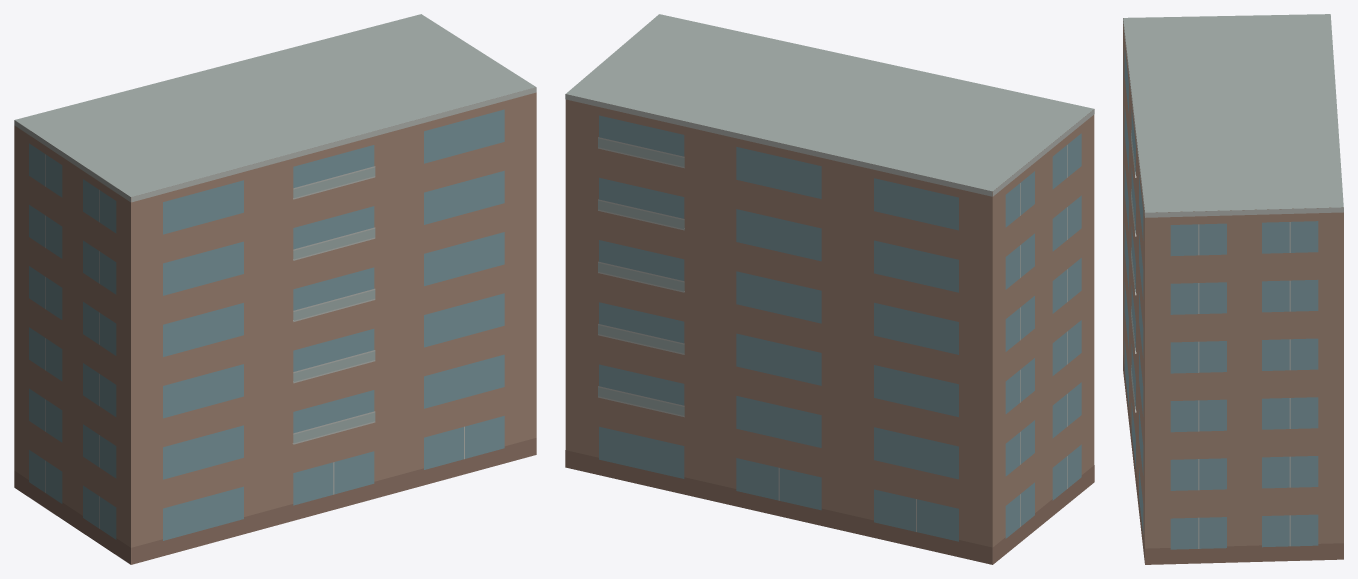
Rendered from survey-upis-32729365.glb.
The picture shows the model from 3 angles, left to right: view 1: azimuth 30°, elevation 25°; view 2: azimuth 150°, elevation 25°; view 3: azimuth 270°, elevation 25°; orthographic projection. The views are drawn at different scales.
Visible parts, largest first — view 1: survey-upis-32729365.tmp; view 2: survey-upis-32729365.tmp; view 3: survey-upis-32729365.tmp.
Part boxes in pixels (<box>): survey-upis-32729365.tmp: <box>14,14,536,564</box>; survey-upis-32729365.tmp: <box>565,14,1094,564</box>; survey-upis-32729365.tmp: <box>1123,14,1343,564</box>.
Bounding box in the file's own units: 20.46 × 16.9 × 9.61.
